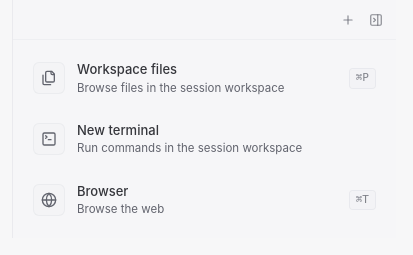
Test: StartDock launcher empty state › clicking a launcher card opens its tab and drops the launcher
Click the button with test id "dock-card-browser".
click(49, 200)  # box [25,174,384,226]
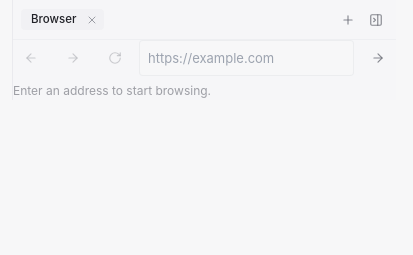
Expected: the tab with test id "dock-tab-browser" is shown, [25,9,82,30]
Result: the element with test id "browser-section" is shown at [13,40,396,100]
